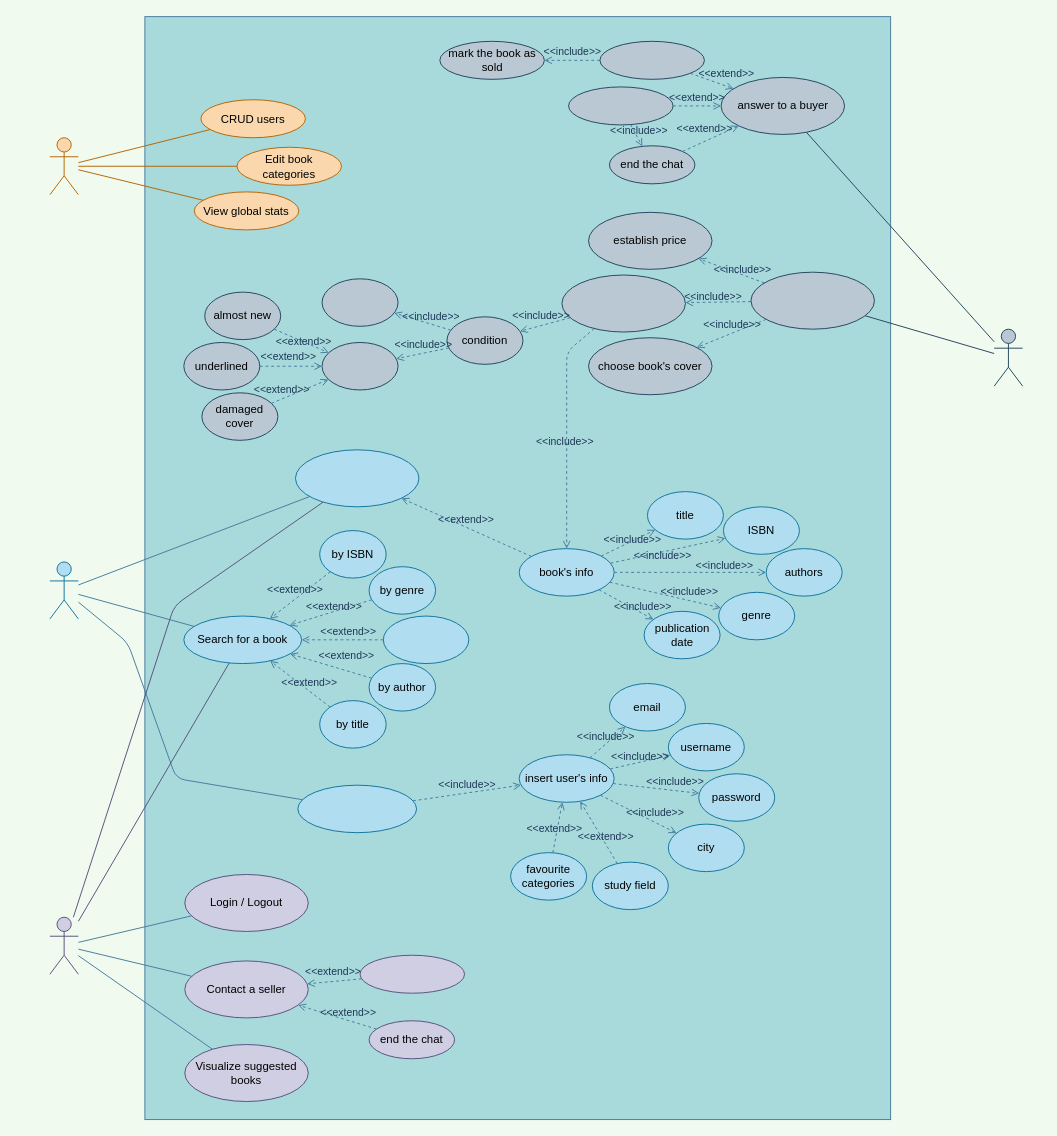
This 1057x1136 diagram has some shape labels left out. Each missing label, with the centre of its shape:
accept purchase proposal: the point at 651,59
Buyer [logged user]: the point at 63,945
by publication date: the point at 425,639
decline purchase proposal: the point at 620,105
insert book's info: the point at 623,303
new: the point at 359,302
Post a new book's advertisement: the point at 812,300
Register: the point at 357,808
second-hand: the point at 359,366
Seller [logged user]: the point at 1008,357
submit purchase proposal: the point at 412,973
System Admin: the point at 63,166
Viewer [unregistered user]: the point at 63,590
Visualize book library: the point at 356,478
